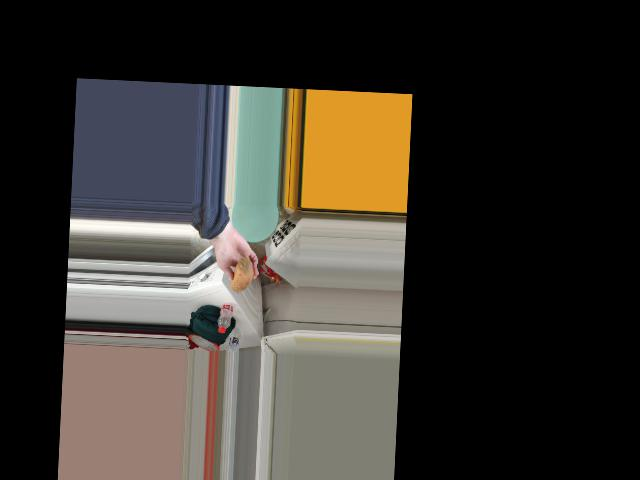sweet_potato: (233, 252, 252, 293)
